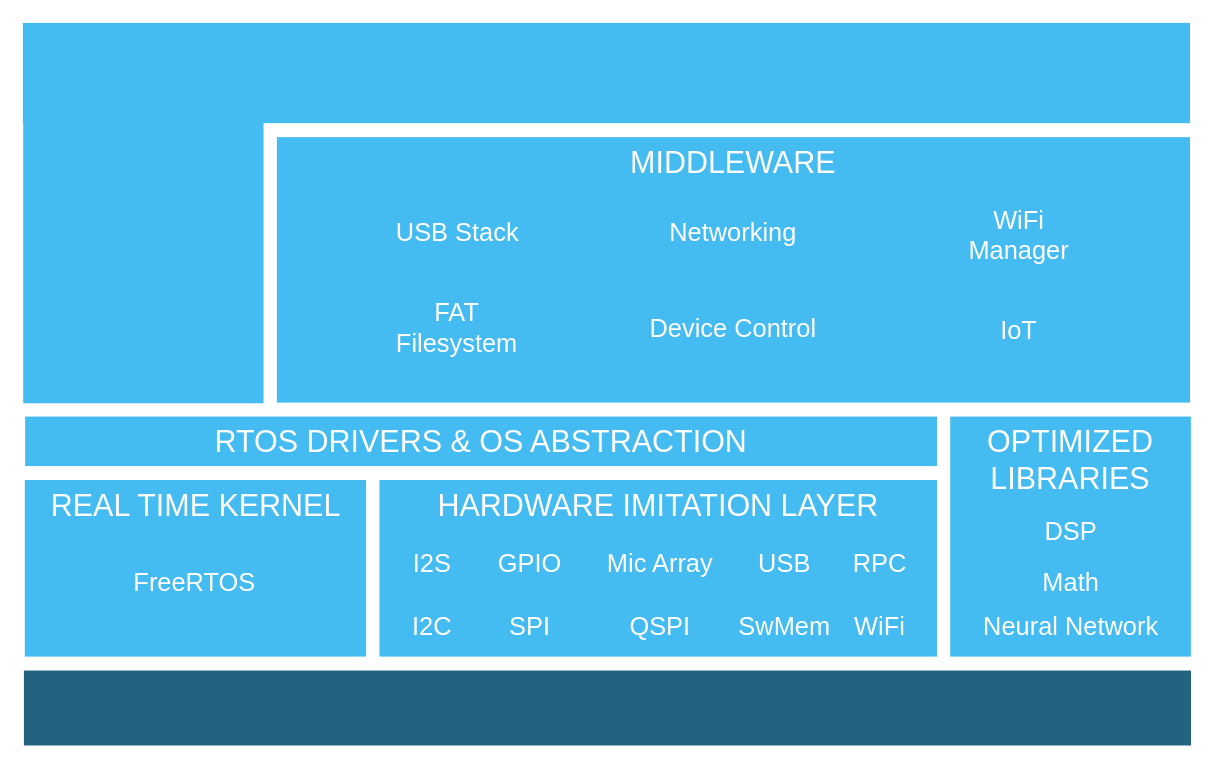
Some shapes in this 1214 by 768 pixel diagram are drawn without their labels. The shapes that lost their labels are listed below. From the top down, each one's centre as x and y in pixels, then its label:
At pixel 606 72: "EXAMPLE APPLICATIONS".
At pixel 607 707: "HARDWARE".
